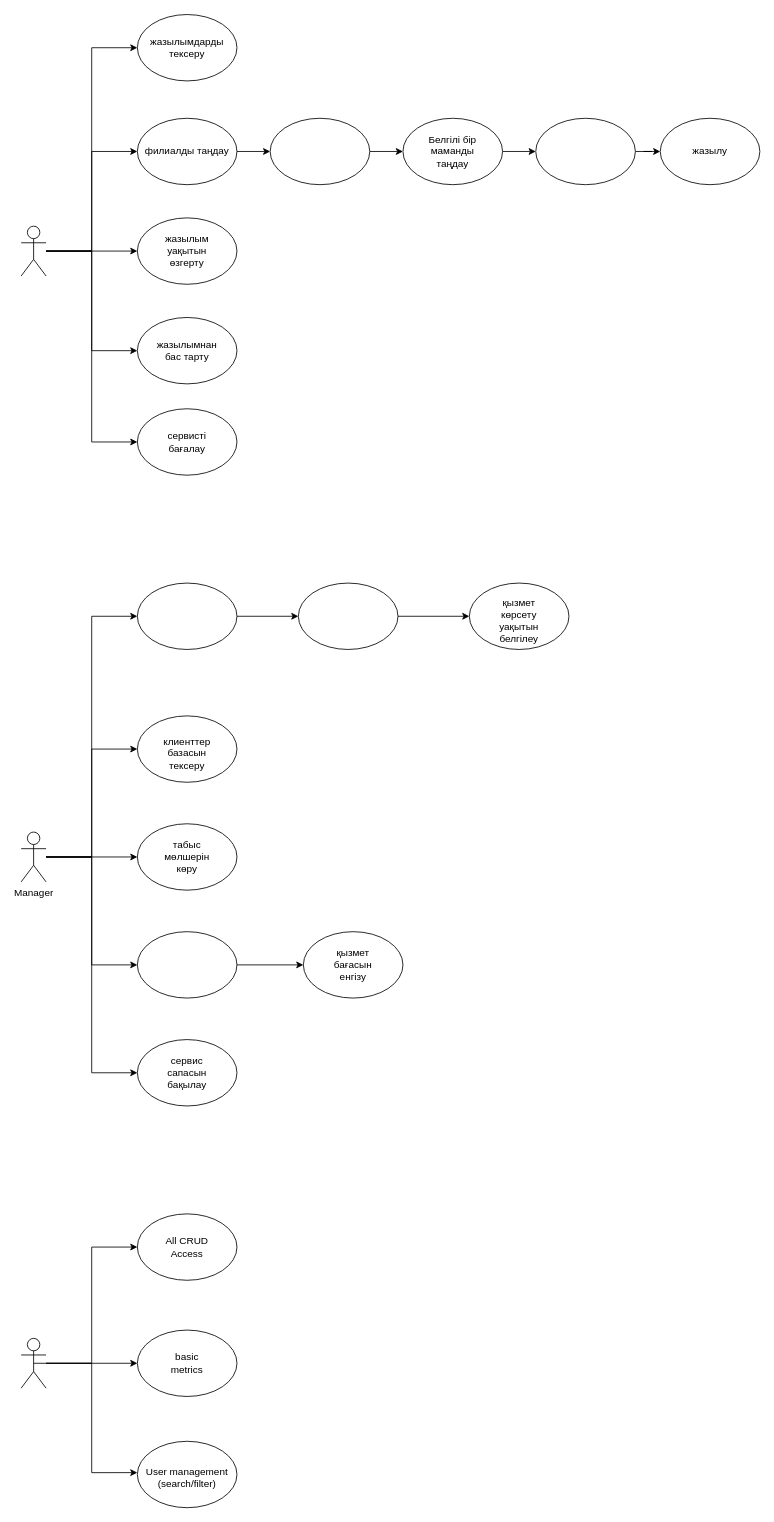
This 774x1522 diagram has some shape labels left out. The shapes that lost their labels are listed below. From the top down, each one's box as (x1, y1, x2, y2) in pixels, then its label:
(269, 117, 370, 185): қызмет түрін таңдау
(535, 117, 635, 185): бос уақытты таңдау
(20, 225, 46, 276): Client
(137, 582, 237, 649): Филиалдарды тіркеу
(298, 582, 398, 649): қызметкерлерді тіркеу
(137, 931, 237, 998): қызмет түрін енгізу
(20, 1338, 46, 1388): Admin
